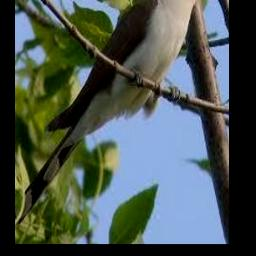Cuckoo: (15, 0, 221, 231)
